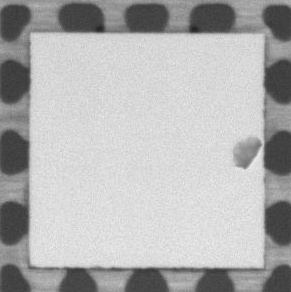DIE_INK: (226, 131, 266, 176)
